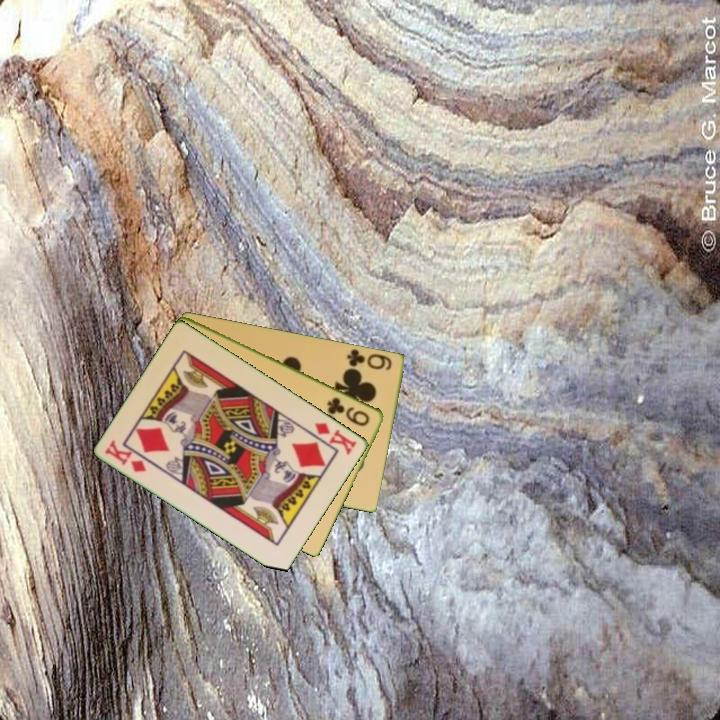6c: (344, 345, 395, 373)
9c: (324, 394, 373, 429)
Kd: (311, 418, 360, 458), (101, 437, 149, 475)
